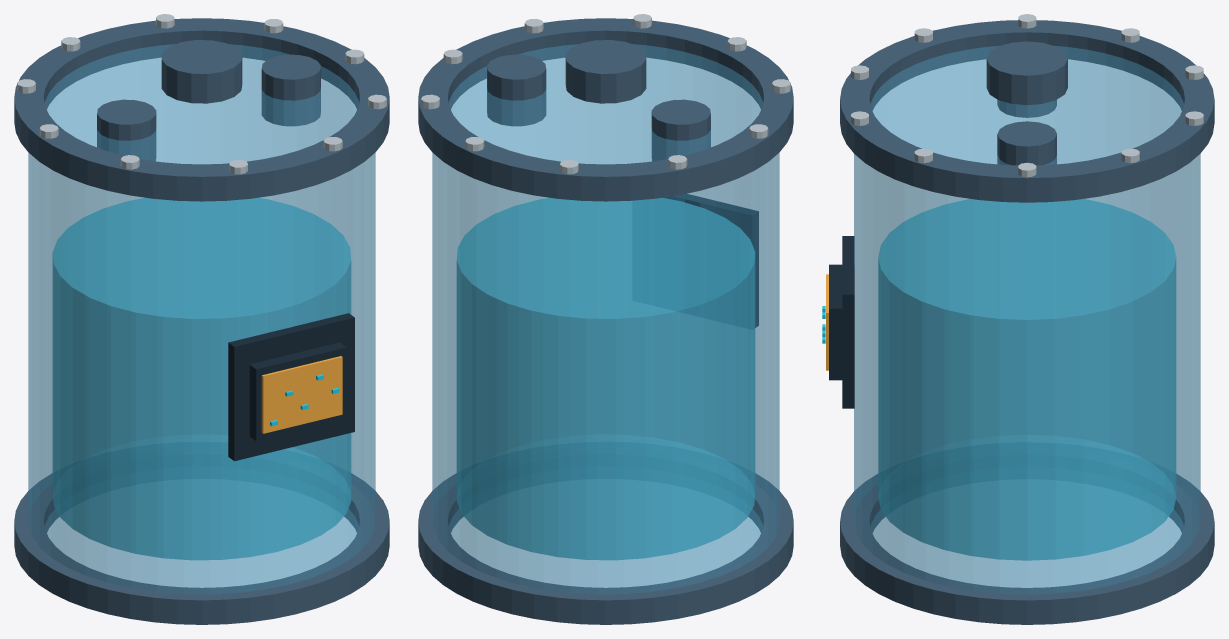
Rendered from 51_L76_WasteElectrolyteCollectionModule.fbx.
The picture shows the model from 3 angles, left to right: view 1: azimuth 30°, elevation 25°; view 2: azimuth 150°, elevation 25°; view 3: azimuth 270°, elevation 25°; orthographic projection.
Parts seen in each view (by area): view 1: WasteElectrolyteCollectionModule; view 2: WasteElectrolyteCollectionModule; view 3: WasteElectrolyteCollectionModule.
Boxes of the visible parts, <box> form: WasteElectrolyteCollectionModule: <box>14,14,389,624</box>; WasteElectrolyteCollectionModule: <box>418,14,793,624</box>; WasteElectrolyteCollectionModule: <box>822,14,1214,624</box>.
Bounding box in the file's own units: 138 × 198 × 145.
